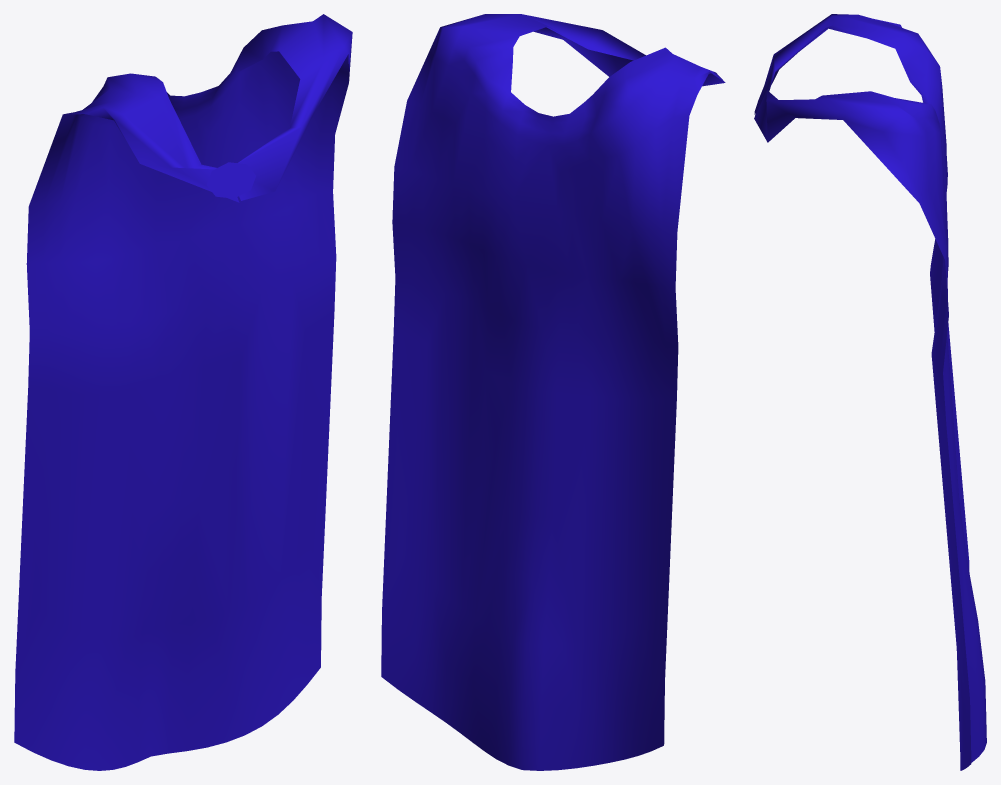
Rendered from germ_cape.dae.
3 renders of one model, left to right at view 1: azimuth 30°, elevation 25°; view 2: azimuth 150°, elevation 25°; view 3: azimuth 270°, elevation 25°, orthographic. The views are drawn at different scales.
Parts seen in each view (by area): view 1: Cape; view 2: Cape; view 3: Cape.
Boxes of the visible parts, <box> form: Cape: <box>14,14,352,770</box>; Cape: <box>381,14,725,770</box>; Cape: <box>754,14,986,770</box>.
Bounding box in the file's own units: 1.17 × 0.8335 × 2.72.
